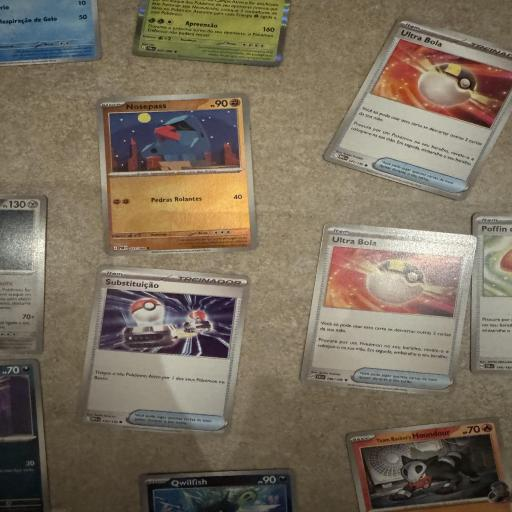card: (321, 5, 512, 202), (300, 213, 477, 406), (74, 263, 251, 438), (95, 89, 259, 260)
